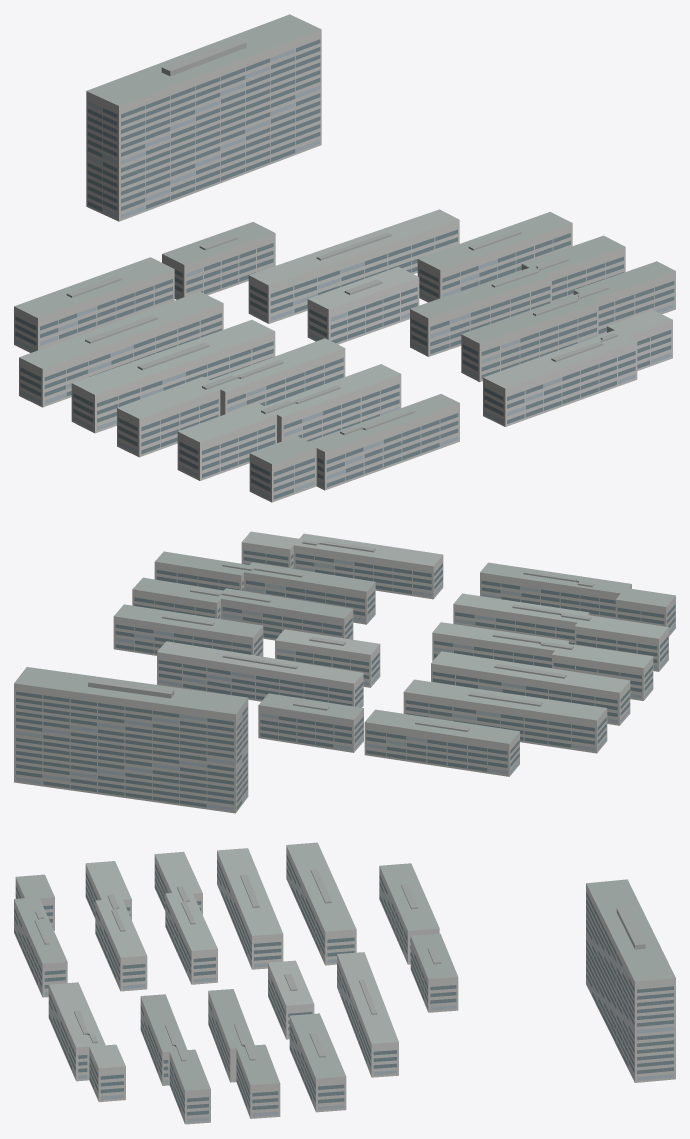
Rendered from apt-a13523003.glb.
3 renders of one model, top to bottom at view 1: azimuth 30°, elevation 25°; view 2: azimuth 150°, elevation 25°; view 3: azimuth 270°, elevation 25°, orthographic. The views are drawn at different scales.
Parts seen in each view (by area): view 1: apt-a13523003; view 2: apt-a13523003; view 3: apt-a13523003.
Boxes of the visible parts, <box> form: apt-a13523003: <box>14,14,675,502</box>; apt-a13523003: <box>14,531,675,813</box>; apt-a13523003: <box>14,842,675,1124</box>.
Size of the model in its own units: 241 by 47.81 by 271.
